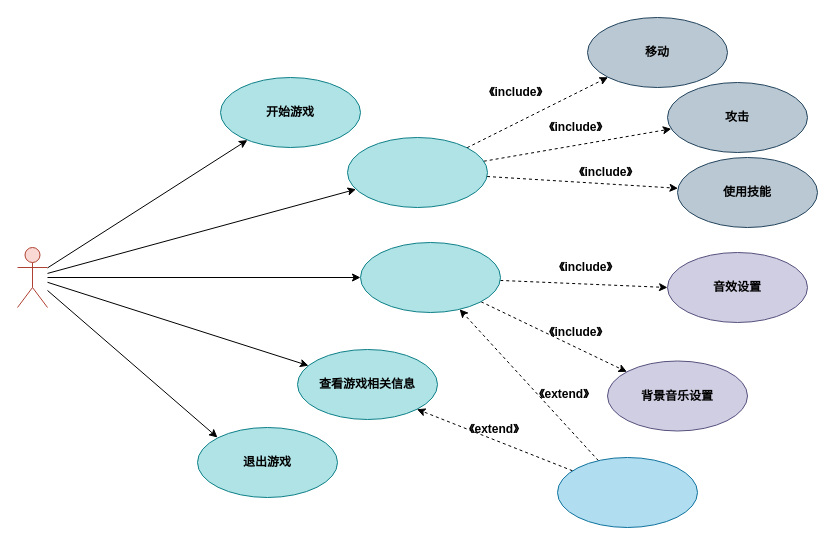
Some shapes in this 835 by 545 pixel diagram are drawn without their labels. The shapes that lost their labels are listed below. From the top down, each one's centre as x and y in pixels, then its label:
At (417,172): "角色控制".
At (32,277): "玩家".
At (430,277): "游戏设置".
At (627,492): "返回主界面".
